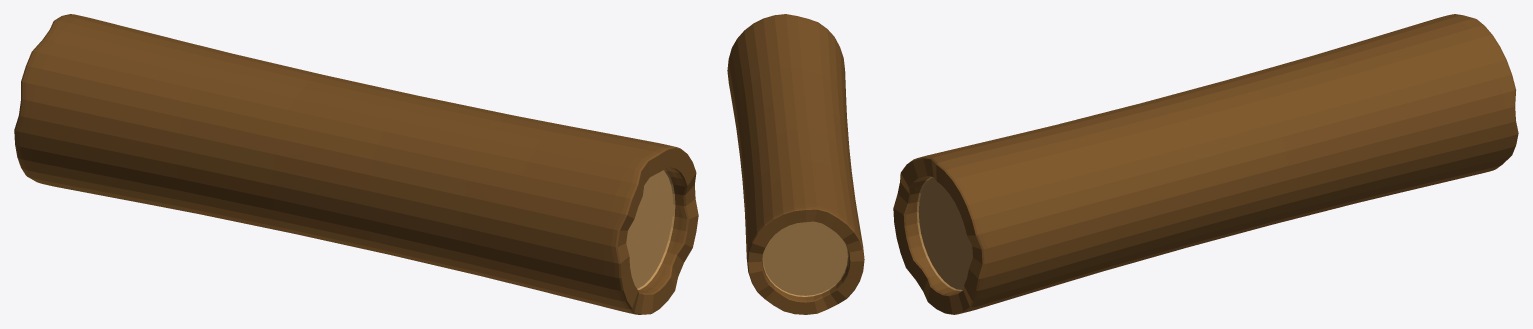
File: tree-4.fbx
3 views of the same model, side by side, from view 1: azimuth 30°, elevation 25°; view 2: azimuth 150°, elevation 25°; view 3: azimuth 270°, elevation 25° (orthographic). The views are drawn at different scales.
Parts seen in each view (by area): view 1: tree-4; view 2: tree-4; view 3: tree-4.
Boxes of the visible parts, box(x1,y1,x2,y2) form: tree-4: box(14, 14, 698, 314); tree-4: box(727, 14, 864, 314); tree-4: box(893, 14, 1518, 314).
Bounding box in the file's own units: 267 × 90.86 × 350.
